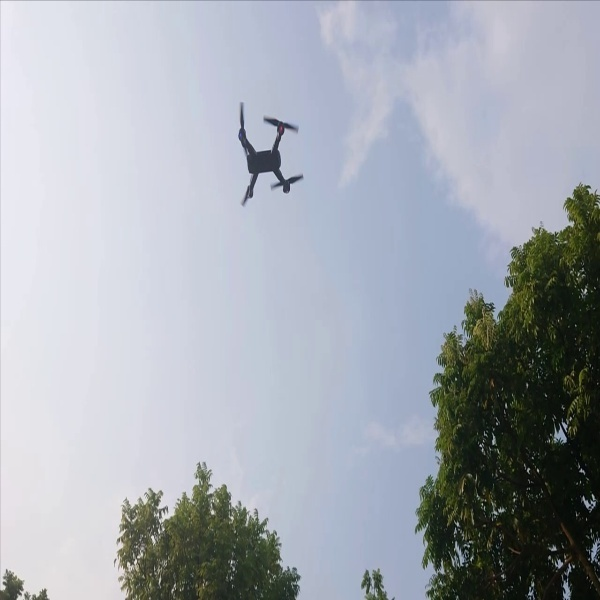drone: (224, 92, 310, 207)
